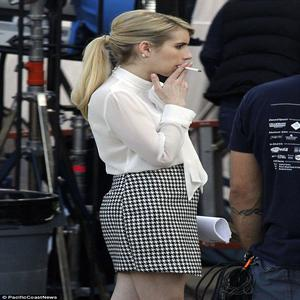cigarette: (178, 65, 204, 75)
